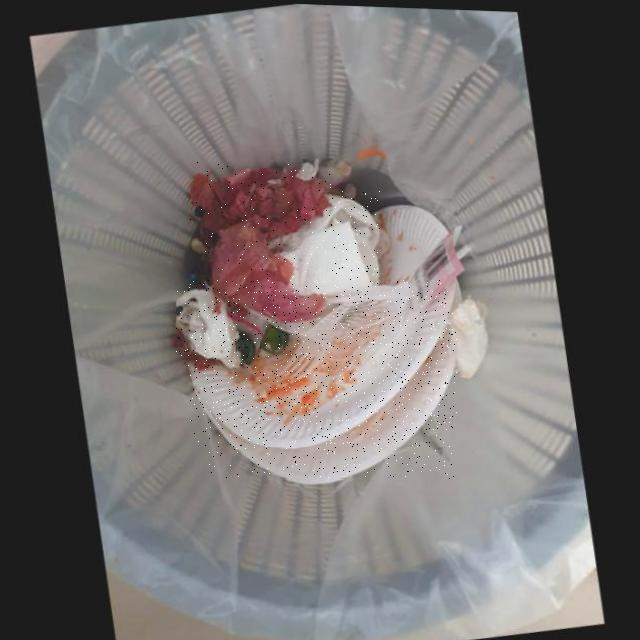biowaste: (191, 163, 332, 319), (261, 323, 291, 351), (237, 332, 257, 362)
paper: (190, 280, 455, 447), (210, 326, 457, 479), (271, 192, 380, 293), (177, 287, 242, 366)
